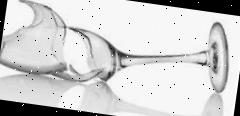glass: (0, 0, 234, 104)
